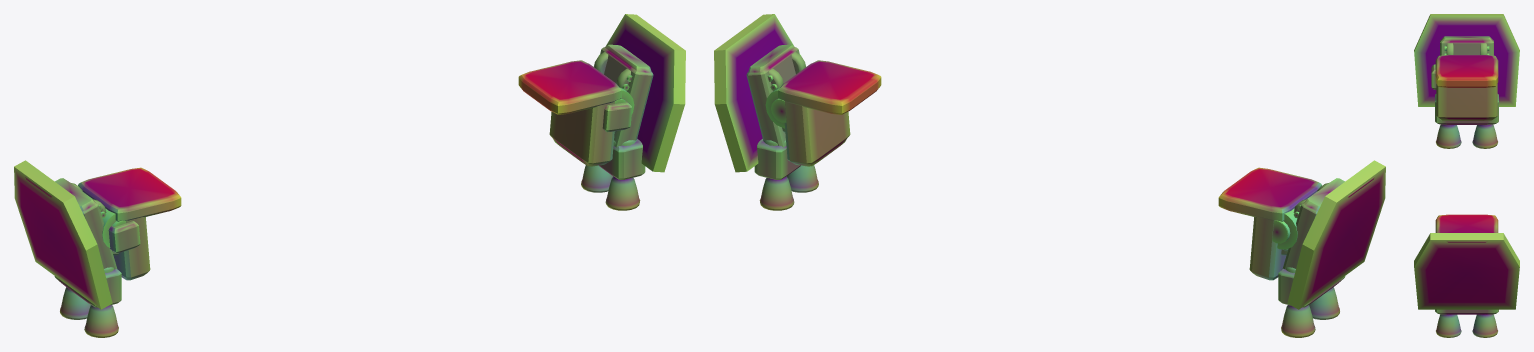
File: llm_gen_shoulder_pods_064_c22518.glb
3 views of the same model, side by side, from view 1: azimuth 30°, elevation 25°; view 2: azimuth 150°, elevation 25°; view 3: azimuth 270°, elevation 25° (orthographic). The views are drawn at different scales.
Parts seen in each view (by area): view 1: samurai_lower_tier_2_wing_white_l, adapter_shoulder_yoke_r, samurai_lower_tier_2_wing_white_r, adapter_shoulder_yoke_l, adapter_sub_sode_frame_dark_0_adapter_dark_r, adapter_sub_sode_frame_dark_0_adapter_dark_l, samurai_mount_bracket_5_adapter_dark_r, samurai_vernier_b_7_vernier_bell_vernier_r, samurai_vernier_b_7_vernier_bell_vernier_l, adapter_sh_front_latch_dark_8_adapter_dark_l, adapter_sh_front_latch_dark_8_adapter_dark_r, samurai_vernier_a_6_vernier_bell_vernier_r (+2 smaller); view 2: samurai_lower_tier_2_wing_white_l, adapter_shoulder_yoke_r, samurai_lower_tier_2_wing_white_r, adapter_shoulder_yoke_l, adapter_sub_sode_frame_dark_0_adapter_dark_r, adapter_sub_sode_frame_dark_0_adapter_dark_l, samurai_mount_bracket_5_adapter_dark_r, samurai_vernier_a_6_vernier_bell_vernier_r, samurai_vernier_a_6_vernier_bell_vernier_l, samurai_vernier_b_7_vernier_bell_vernier_r, samurai_vernier_b_7_vernier_bell_vernier_l, samurai_mount_bracket_5_adapter_dark_l; view 3: samurai_lower_tier_2_wing_white_r, samurai_lower_tier_2_wing_white_l, adapter_shoulder_yoke_l, adapter_shoulder_yoke_r, adapter_sub_sode_frame_dark_0_adapter_dark_l, samurai_vernier_a_6_vernier_bell_vernier_l, samurai_vernier_b_7_vernier_bell_vernier_l, samurai_vernier_a_6_vernier_bell_vernier_r, samurai_vernier_b_7_vernier_bell_vernier_r, samurai_mount_bracket_5_adapter_dark_l, samurai_mount_bracket_5_adapter_dark_r, servo_1_servo_accent_l (+1 smaller).
Part boxes in pixels (x1,y1,x2,y2): samurai_lower_tier_2_wing_white_l: [14, 160, 112, 309]; adapter_shoulder_yoke_r: [518, 60, 634, 166]; samurai_lower_tier_2_wing_white_r: [605, 14, 685, 172]; adapter_shoulder_yoke_l: [78, 167, 181, 280]; adapter_sub_sode_frame_dark_0_adapter_dark_r: [600, 44, 653, 147]; adapter_sub_sode_frame_dark_0_adapter_dark_l: [55, 178, 117, 269]; samurai_mount_bracket_5_adapter_dark_r: [599, 139, 645, 179]; samurai_vernier_b_7_vernier_bell_vernier_r: [605, 176, 640, 210]; samurai_vernier_b_7_vernier_bell_vernier_l: [84, 305, 118, 337]; adapter_sh_front_latch_dark_8_adapter_dark_l: [108, 221, 140, 253]; adapter_sh_front_latch_dark_8_adapter_dark_r: [602, 100, 632, 132]; samurai_vernier_a_6_vernier_bell_vernier_r: [581, 165, 612, 192]; samurai_lower_tier_2_wing_white_l: [1287, 160, 1385, 309]; adapter_shoulder_yoke_r: [765, 60, 881, 166]; samurai_lower_tier_2_wing_white_r: [714, 14, 794, 172]; adapter_shoulder_yoke_l: [1218, 167, 1321, 280]; adapter_sub_sode_frame_dark_0_adapter_dark_r: [746, 44, 799, 147]; adapter_sub_sode_frame_dark_0_adapter_dark_l: [1282, 178, 1344, 269]; samurai_mount_bracket_5_adapter_dark_r: [754, 139, 800, 179]; samurai_vernier_a_6_vernier_bell_vernier_r: [759, 176, 794, 210]; samurai_vernier_a_6_vernier_bell_vernier_l: [1281, 305, 1315, 337]; samurai_vernier_b_7_vernier_bell_vernier_r: [787, 165, 818, 192]; samurai_vernier_b_7_vernier_bell_vernier_l: [1309, 287, 1339, 319]; samurai_mount_bracket_5_adapter_dark_l: [1278, 268, 1345, 307]; samurai_lower_tier_2_wing_white_r: [1414, 233, 1519, 309]; samurai_lower_tier_2_wing_white_l: [1414, 14, 1519, 106]; adapter_shoulder_yoke_l: [1435, 55, 1498, 120]; adapter_shoulder_yoke_r: [1435, 214, 1498, 232]; adapter_sub_sode_frame_dark_0_adapter_dark_l: [1440, 36, 1493, 55]; samurai_vernier_a_6_vernier_bell_vernier_l: [1472, 124, 1497, 148]; samurai_vernier_b_7_vernier_bell_vernier_l: [1436, 124, 1461, 148]; samurai_vernier_a_6_vernier_bell_vernier_r: [1472, 314, 1497, 337]; samurai_vernier_b_7_vernier_bell_vernier_r: [1436, 314, 1461, 337]; samurai_mount_bracket_5_adapter_dark_l: [1435, 94, 1498, 124]; samurai_mount_bracket_5_adapter_dark_r: [1435, 309, 1498, 314]; servo_1_servo_accent_l: [1446, 43, 1487, 54].
Bounding box in the file's own units: 111 × 26.2 × 22.05.
